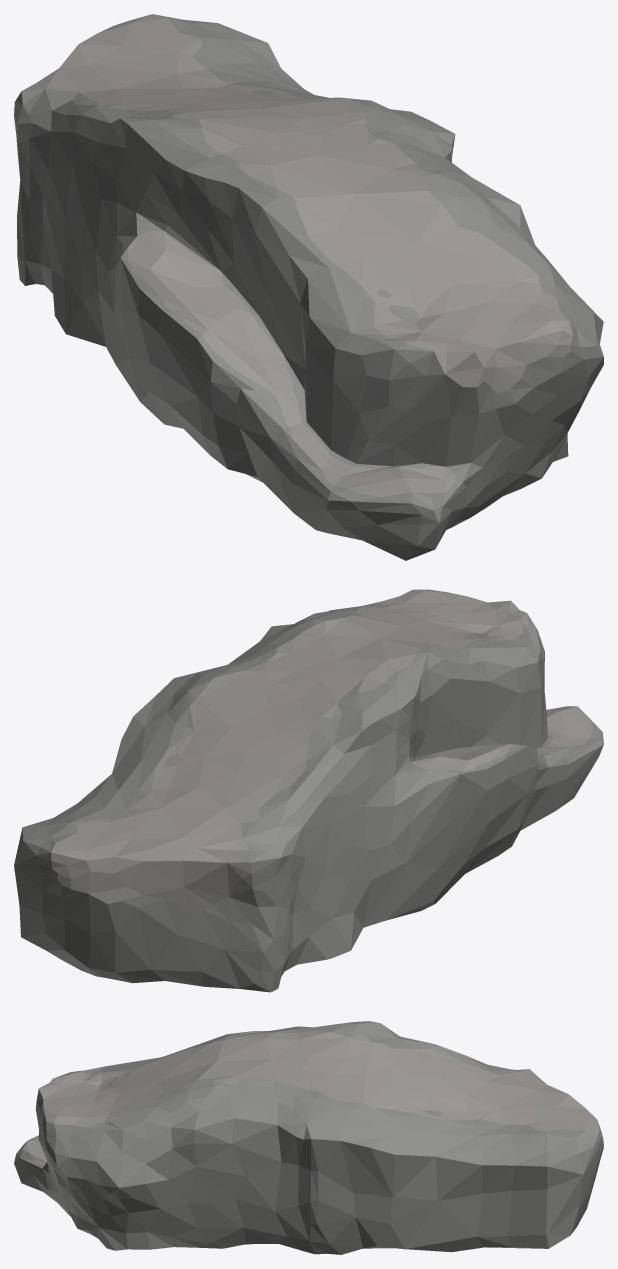
Rendered from Cavern_Floor_Narrow_Bump-01.fbx.
The picture shows the model from 3 angles, top to bottom: view 1: azimuth 30°, elevation 25°; view 2: azimuth 150°, elevation 25°; view 3: azimuth 270°, elevation 25°; orthographic projection. The views are drawn at different scales.
Parts seen in each view (by area): view 1: Cavern_Floor_Narrow_Bump-01; view 2: Cavern_Floor_Narrow_Bump-01; view 3: Cavern_Floor_Narrow_Bump-01.
Part boxes in pixels (<box>): Cavern_Floor_Narrow_Bump-01: <box>14,14,603,560</box>; Cavern_Floor_Narrow_Bump-01: <box>14,589,603,992</box>; Cavern_Floor_Narrow_Bump-01: <box>14,1021,603,1254</box>.
Bounding box in the file's own units: 885 × 626 × 2014.
1 material, 1 textured.
